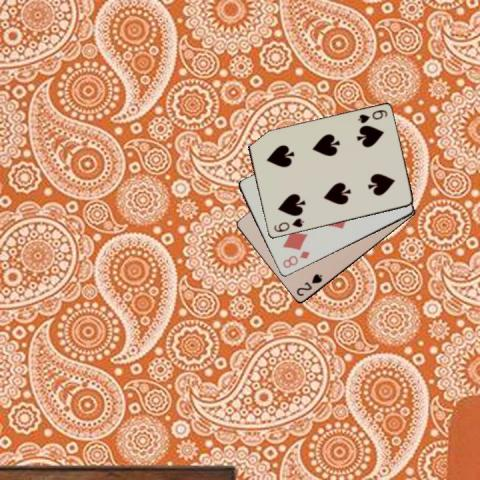2s: (294, 271, 324, 298)
6s: (271, 215, 305, 234), (354, 107, 388, 125)
8d: (280, 248, 311, 270)
